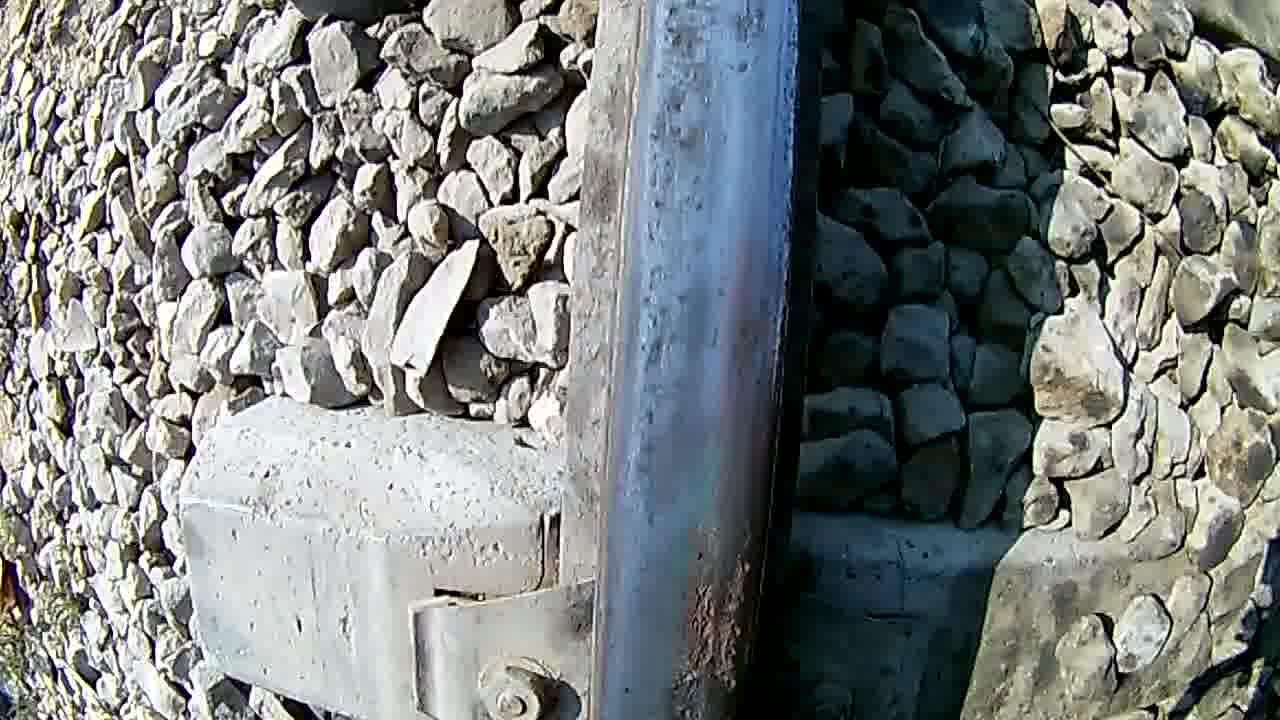crack: (620, 0, 794, 720)
